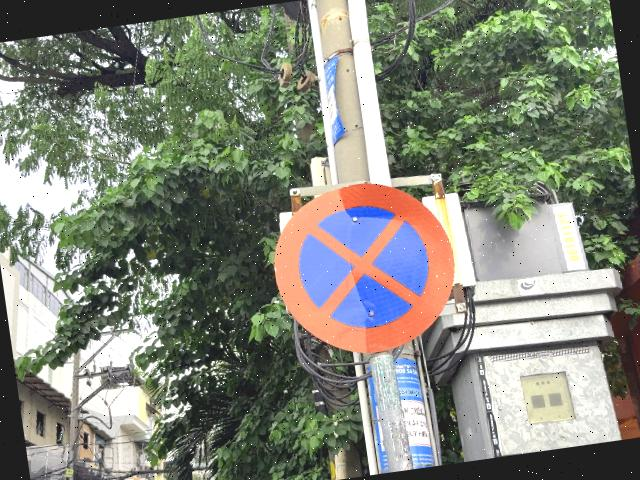cam-dung-va-do-xe: (264, 172, 468, 364)
